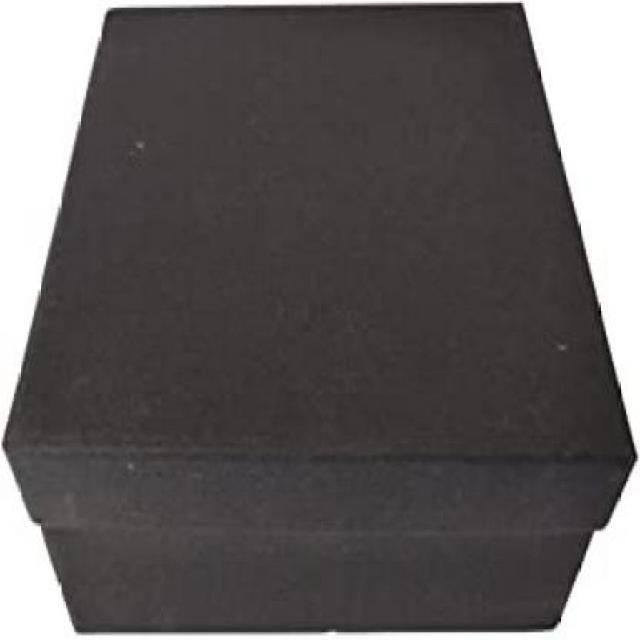box: (14, 17, 638, 637)
